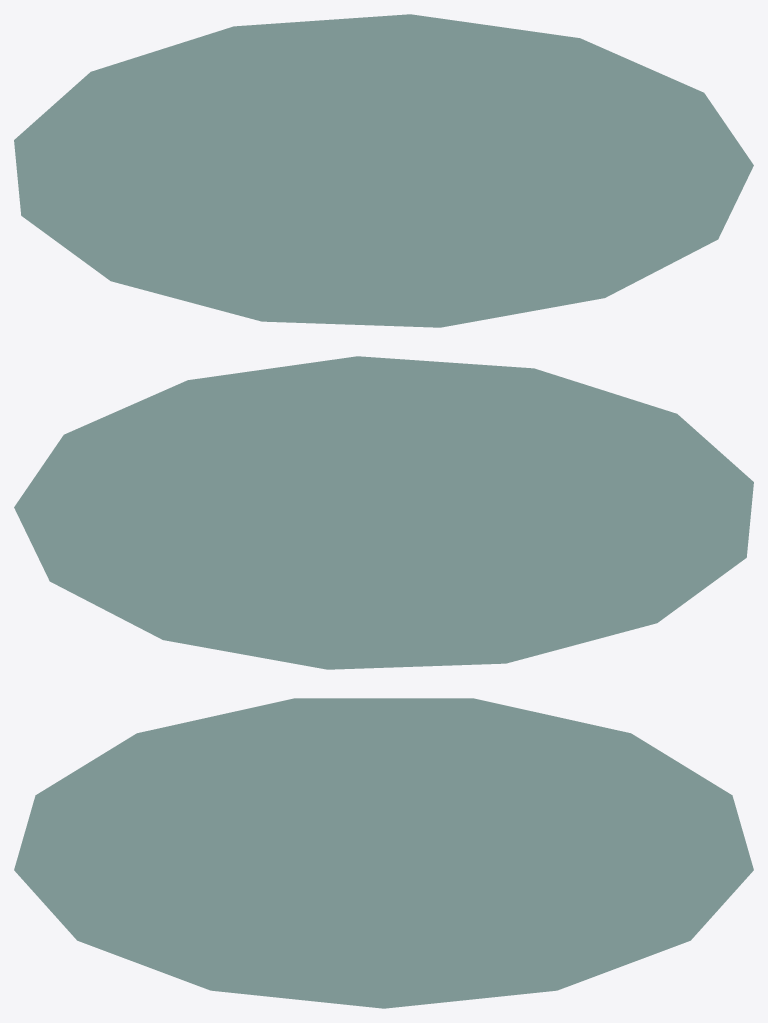
Rendered from water uv.fbx.
3 renders of one model, top to bottom at view 1: azimuth 30°, elevation 25°; view 2: azimuth 150°, elevation 25°; view 3: azimuth 270°, elevation 25°, orthographic.
Parts seen in each view (by area): view 1: water_for_uv; view 2: water_for_uv; view 3: water_for_uv.
Boxes of the visible parts, x1,y1,x2,y2 form: water_for_uv: (14,14,753,327); water_for_uv: (14,356,753,669); water_for_uv: (14,698,753,1008).
Bounding box in the file's own units: 7.23 × 0 × 7.28.
